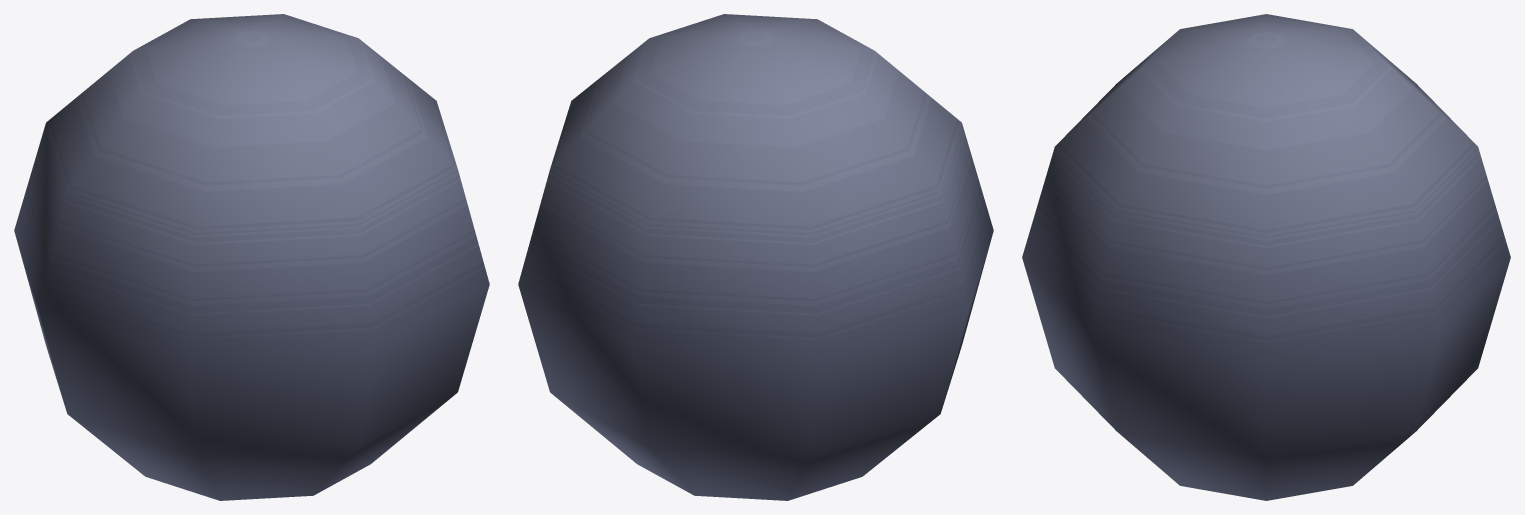
Rendered from cannonball.glb.
The picture shows the model from 3 angles, left to right: view 1: azimuth 30°, elevation 25°; view 2: azimuth 150°, elevation 25°; view 3: azimuth 270°, elevation 25°; orthographic projection.
Visible parts, largest first — view 1: cannon_ball; view 2: cannon_ball; view 3: cannon_ball.
Part boxes in pixels (x1,y1,x2,y2): cannon_ball: [14, 14, 489, 500]; cannon_ball: [518, 14, 993, 500]; cannon_ball: [1022, 14, 1510, 500].
Size of the model in its own units: 0.56 by 0.56 by 0.56.
1 material, 1 textured.
